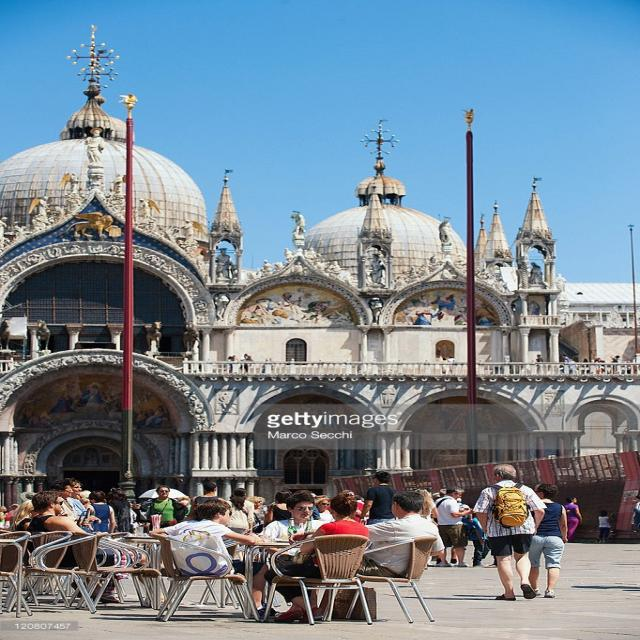body: (146, 497, 288, 620), (262, 492, 372, 624), (23, 490, 125, 604), (469, 462, 548, 602), (354, 490, 446, 579), (385, 575, 640, 602), (430, 483, 499, 568), (526, 481, 572, 599), (259, 490, 331, 556), (14, 498, 96, 554), (79, 606, 292, 626), (433, 485, 475, 569), (81, 487, 146, 532), (54, 478, 104, 526), (310, 487, 376, 522), (534, 354, 637, 376), (357, 470, 396, 525), (48, 479, 91, 526), (146, 484, 188, 532), (188, 481, 230, 521), (224, 486, 256, 536), (83, 490, 117, 534), (562, 495, 584, 543), (222, 352, 264, 377), (244, 497, 270, 533), (436, 354, 464, 376), (597, 509, 614, 545), (0, 503, 21, 532), (175, 494, 196, 522), (628, 493, 640, 541)
